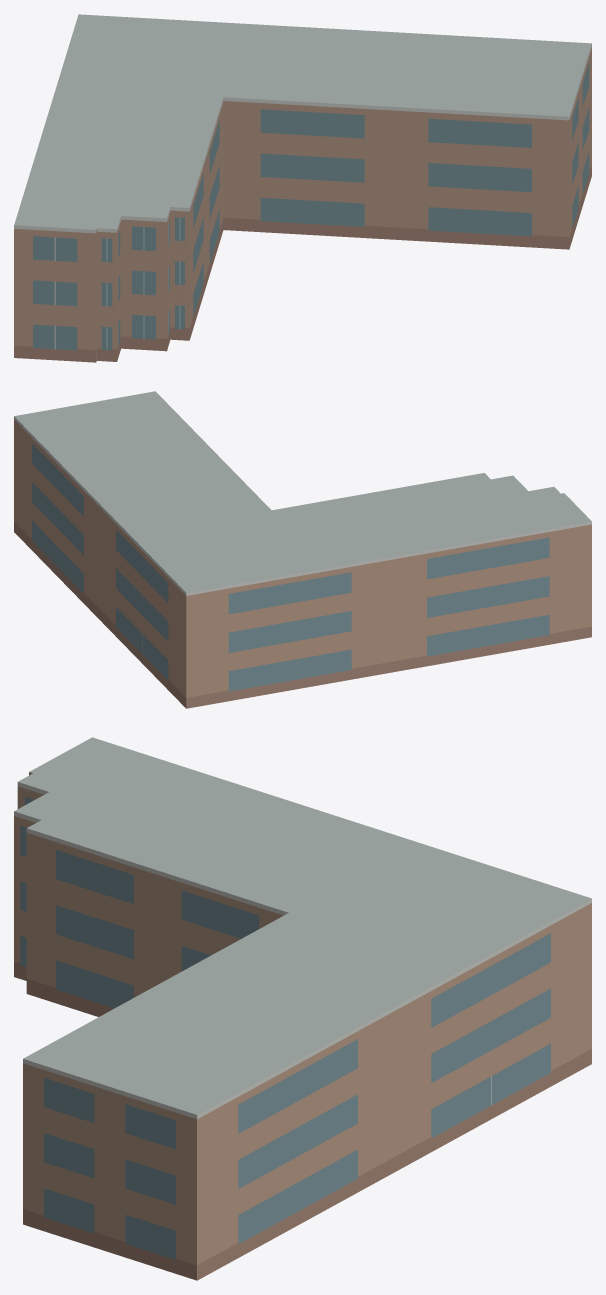
Rendered from survey-upis-32817277.glb.
3 views of the same model, one above another, from view 1: azimuth 30°, elevation 25°; view 2: azimuth 150°, elevation 25°; view 3: azimuth 270°, elevation 25° (orthographic). The views are drawn at different scales.
Visible parts, largest first — view 1: survey-upis-32817277.tmp; view 2: survey-upis-32817277.tmp; view 3: survey-upis-32817277.tmp.
Boxes of the visible parts, box(x1,y1,x2,y2) form: survey-upis-32817277.tmp: box(14, 14, 591, 362); survey-upis-32817277.tmp: box(14, 391, 591, 708); survey-upis-32817277.tmp: box(14, 737, 591, 1280).
Size of the model in its own units: 44.74 by 9.15 by 28.93.
